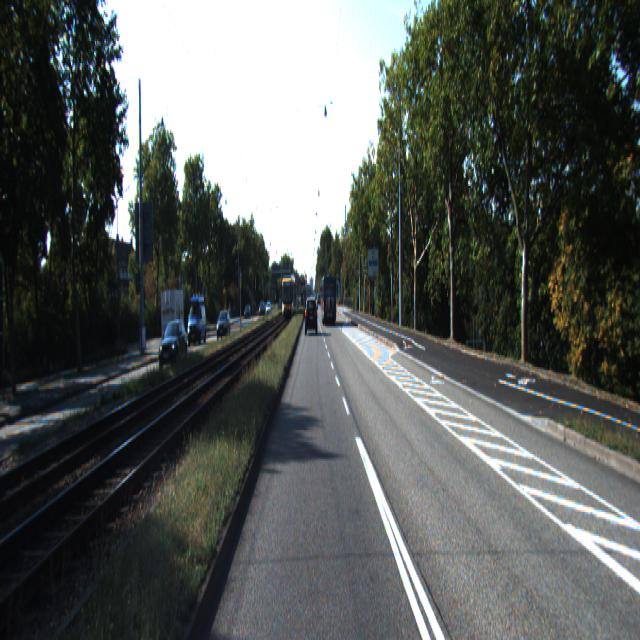Car: (158, 317, 189, 374), (161, 287, 185, 358), (187, 300, 207, 346), (321, 274, 337, 325), (305, 299, 317, 336)
